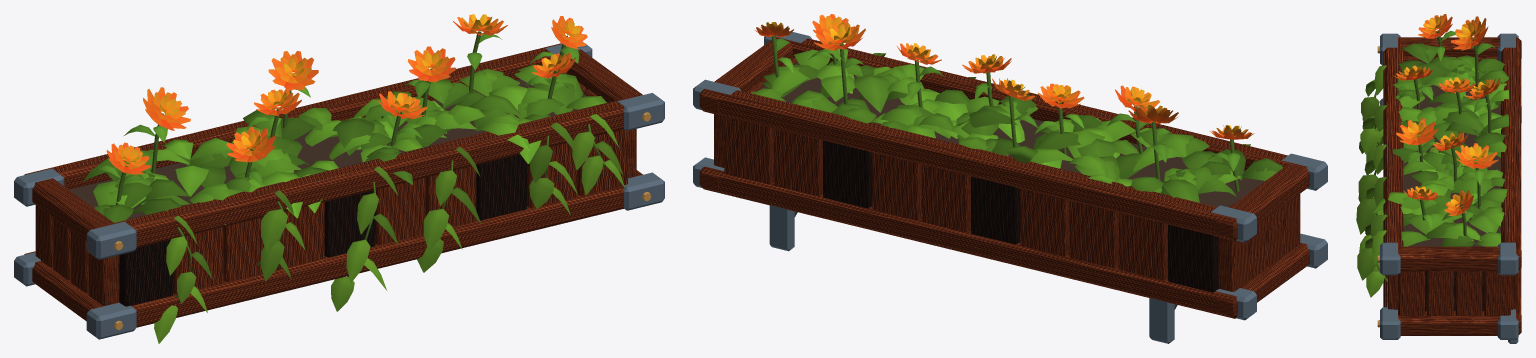
The model's file is window-flower-box.glb.
The picture shows the model from 3 angles, left to right: view 1: azimuth 30°, elevation 25°; view 2: azimuth 150°, elevation 25°; view 3: azimuth 270°, elevation 25°; orthographic projection. The views are drawn at different scales.
Visible parts, largest first — view 1: window-flower-box; view 2: window-flower-box; view 3: window-flower-box.
Boxes of the visible parts, x1,y1,x2,y2 form: window-flower-box: (14, 14, 664, 343); window-flower-box: (693, 14, 1327, 343); window-flower-box: (1356, 14, 1521, 343).
Bounding box in the file's own units: 1.82 × 0.6722 × 0.5649.
Materials: 8 (2 with a texture image).
